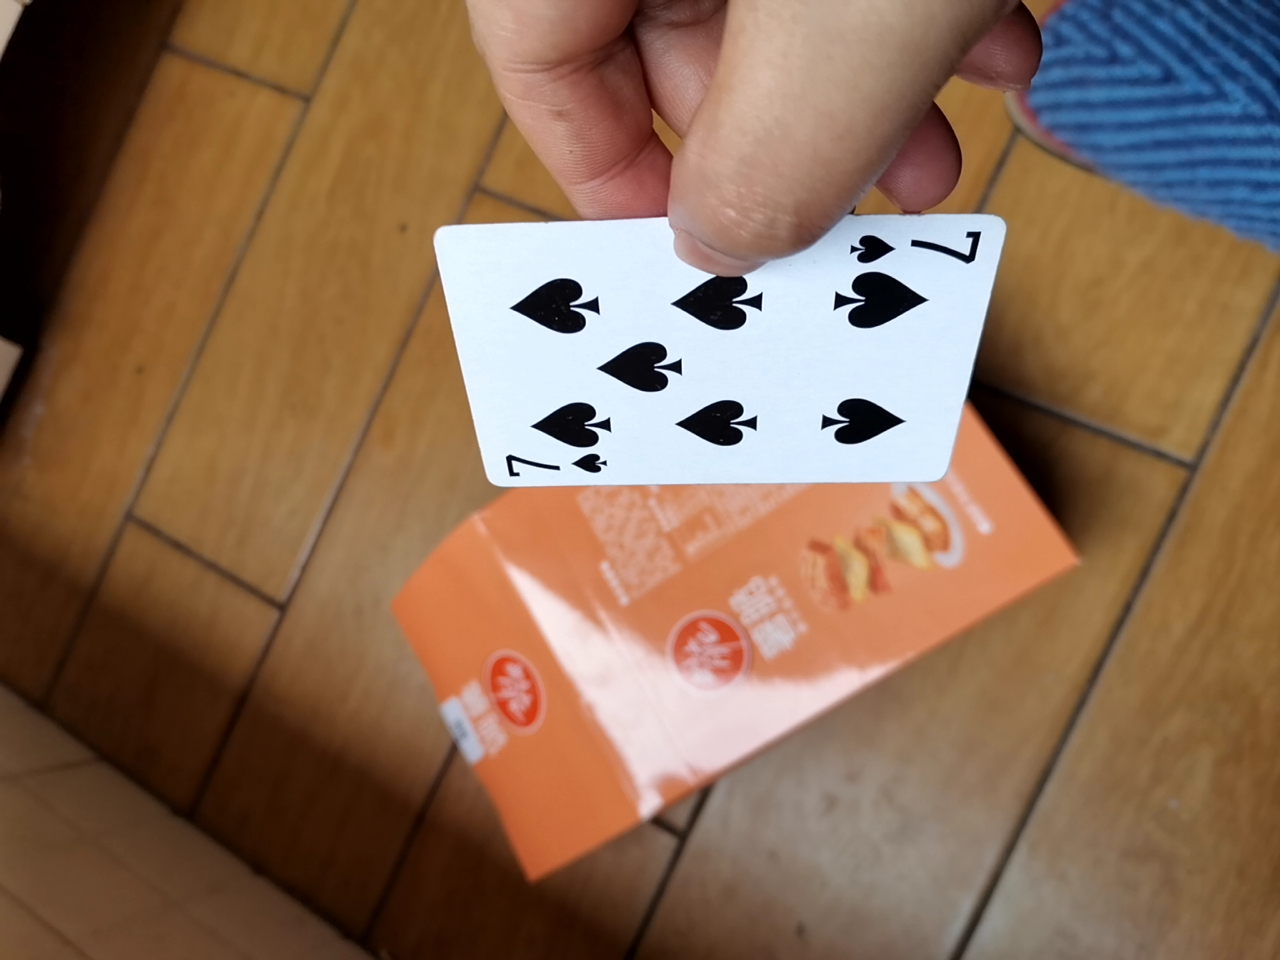ht 7: (425, 214, 992, 485)
